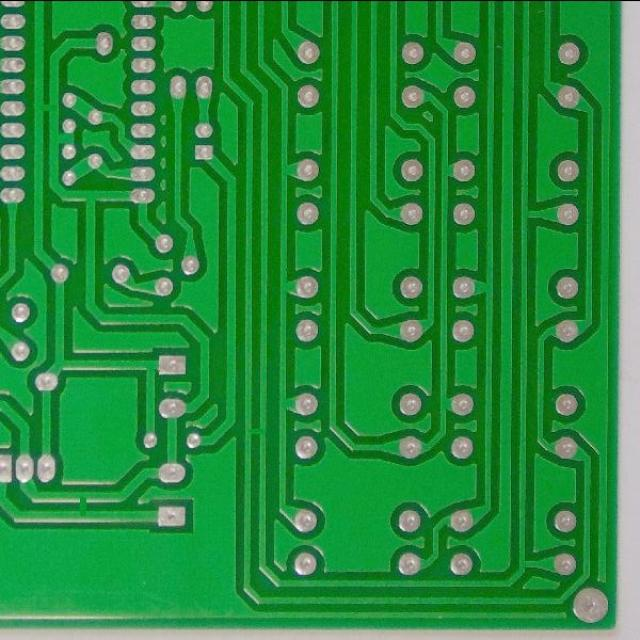Short_Circuit: (70, 487, 96, 526), (31, 95, 62, 122), (242, 419, 271, 444)
